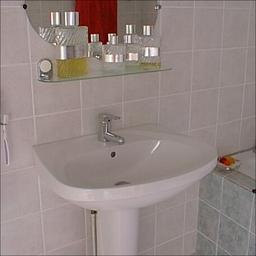Lavamanos: (29, 109, 217, 254)
